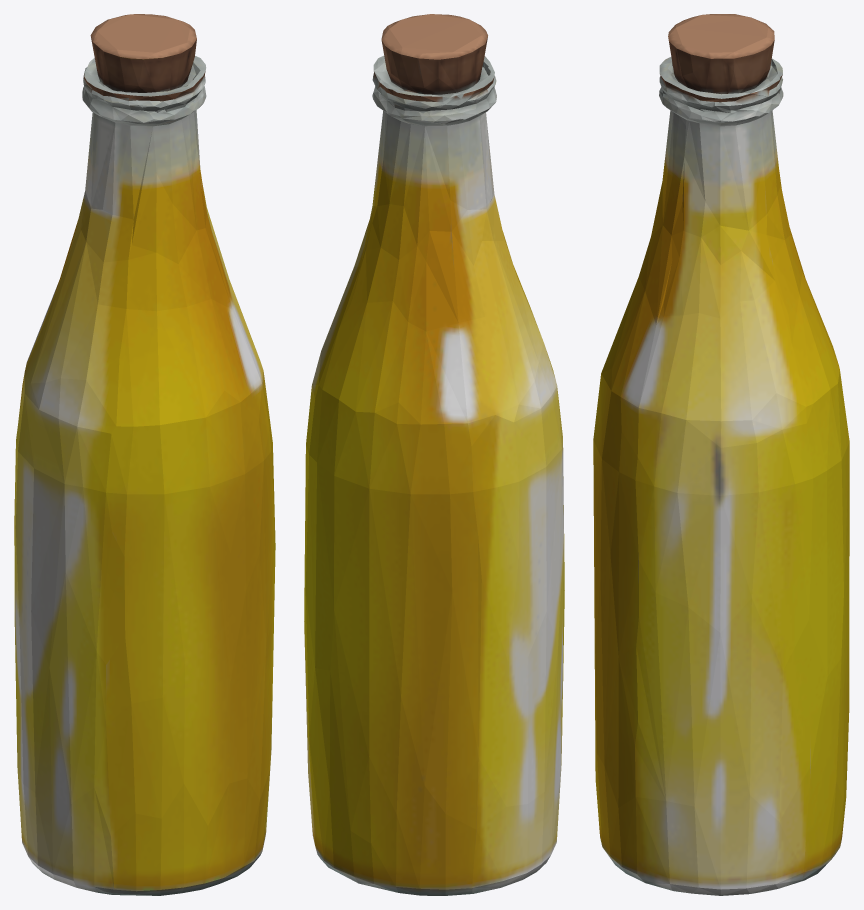
File: juice.glb
The picture shows the model from 3 angles, left to right: view 1: azimuth 30°, elevation 25°; view 2: azimuth 150°, elevation 25°; view 3: azimuth 270°, elevation 25°; orthographic projection.
Visible parts, largest first — view 1: world; view 2: world; view 3: world.
Part boxes in pixels (<box>): world: <box>14,14,275,895</box>; world: <box>304,14,564,895</box>; world: <box>593,14,849,895</box>.
Bounding box in the file's own units: 0.2872 × 0.9983 × 0.2835.
1 material, 1 textured.
